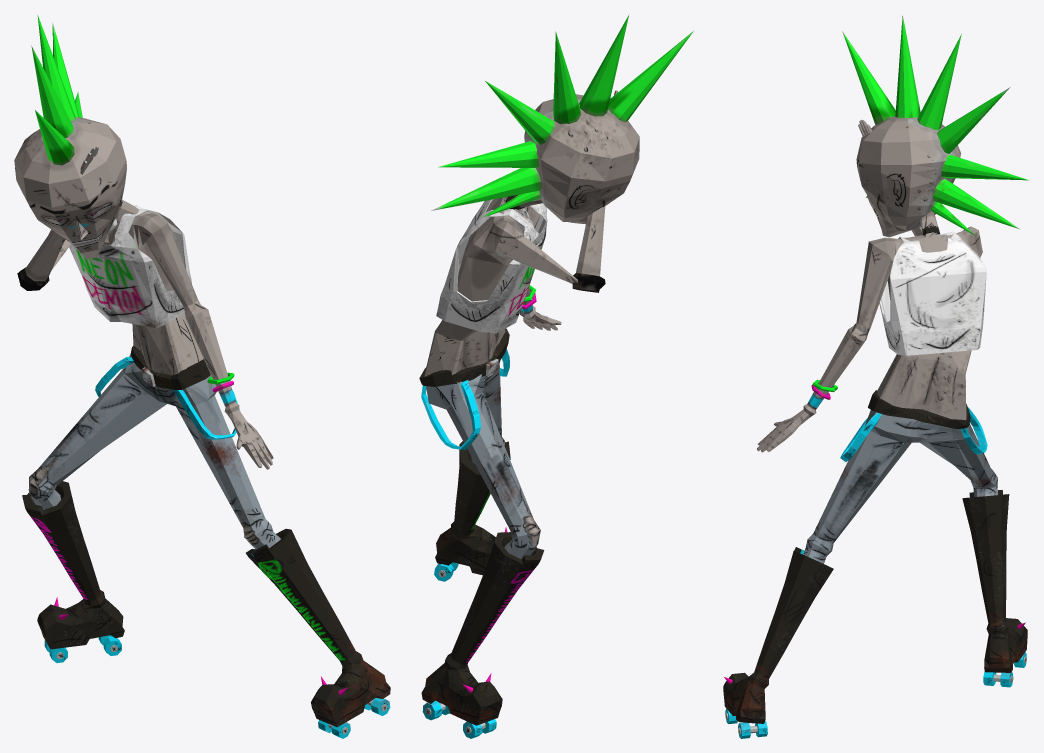
File: punkAnimation_000052.obj
3 views of the same model, side by side, from view 1: azimuth 30°, elevation 25°; view 2: azimuth 150°, elevation 25°; view 3: azimuth 270°, elevation 25° (orthographic). The views are drawn at different scales.
Visible parts, largest first — view 1: Cube.004_Cube.003; view 2: Cube.004_Cube.003; view 3: Cube.004_Cube.003.
Boxes of the visible parts, x1=… form: Cube.004_Cube.003: x1=14, y1=15, x2=390, y2=738; Cube.004_Cube.003: x1=419, y1=14, x2=693, y2=738; Cube.004_Cube.003: x1=723, y1=15, x2=1028, y2=738.
Bounding box in the file's own units: 3.12 × 6.72 × 3.04.
